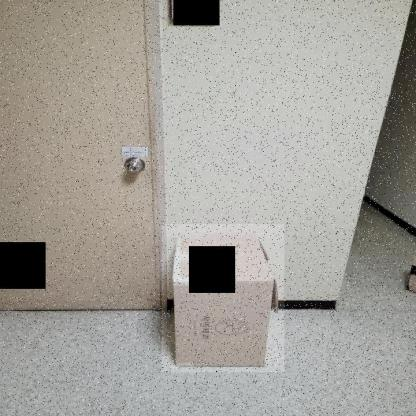box: (162, 224, 284, 372)
